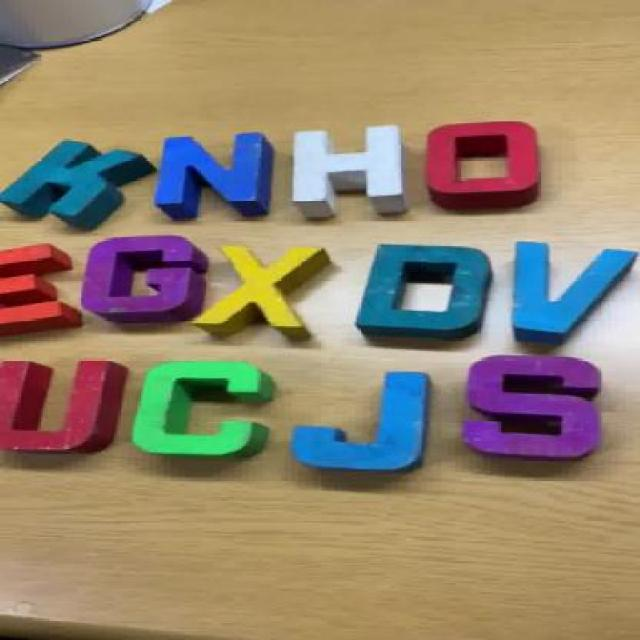C: (138, 358, 267, 457)
D: (359, 238, 481, 338)
G: (77, 228, 212, 327)
H: (286, 128, 422, 214)
J: (282, 366, 438, 483)
K: (11, 134, 151, 232)
N: (152, 132, 274, 220)
O: (420, 120, 532, 212)
S: (452, 349, 613, 466)
U: (0, 355, 128, 456)
V: (492, 242, 626, 348)
X: (193, 242, 333, 342)
